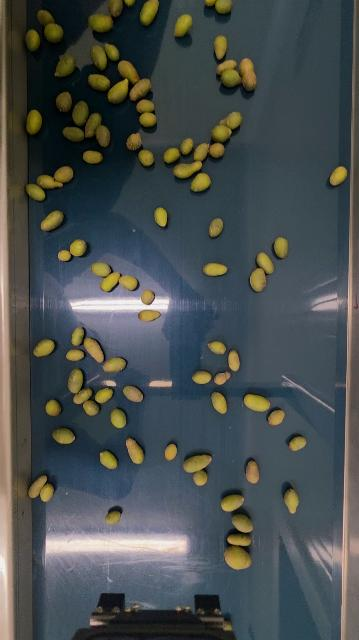Baby Potato: (225, 545, 254, 571), (239, 55, 259, 92), (183, 453, 214, 474), (138, 0, 162, 27), (83, 335, 105, 364), (128, 77, 153, 102), (107, 78, 131, 104), (244, 392, 272, 414), (117, 59, 140, 85), (54, 52, 76, 78), (88, 12, 115, 33), (89, 43, 109, 71), (173, 161, 204, 179), (40, 209, 64, 232), (28, 473, 48, 500), (71, 100, 90, 128), (126, 437, 145, 465), (173, 13, 194, 38), (25, 107, 43, 136), (220, 493, 246, 513), (84, 112, 103, 139), (87, 72, 112, 92), (36, 173, 65, 190), (190, 171, 212, 193), (211, 123, 234, 144), (232, 513, 255, 534), (33, 338, 57, 358), (219, 68, 243, 88), (25, 182, 47, 203), (256, 251, 275, 275), (24, 28, 42, 53), (67, 368, 85, 393), (250, 267, 268, 292), (284, 488, 301, 514), (43, 22, 64, 43), (52, 426, 75, 445), (213, 34, 229, 61), (227, 531, 254, 547), (245, 459, 262, 484), (102, 356, 127, 373), (55, 91, 74, 113), (100, 272, 120, 292), (54, 165, 75, 184), (330, 165, 348, 187), (212, 391, 229, 414), (62, 125, 85, 142), (95, 124, 112, 147), (274, 235, 290, 259), (99, 450, 118, 470), (123, 384, 144, 402), (203, 262, 228, 277), (95, 385, 115, 403), (110, 408, 127, 429), (209, 216, 225, 238), (216, 58, 238, 74), (225, 110, 243, 129), (162, 146, 181, 164), (289, 434, 308, 452), (119, 273, 138, 291), (73, 387, 93, 404), (91, 261, 111, 278), (138, 308, 162, 322), (154, 206, 169, 228), (268, 408, 286, 426), (126, 132, 143, 151), (138, 148, 155, 167), (71, 325, 85, 348), (228, 349, 242, 372), (135, 98, 156, 113), (45, 399, 62, 417), (139, 111, 158, 127), (36, 9, 55, 25), (70, 238, 86, 257), (193, 370, 213, 385), (39, 483, 54, 503), (107, 0, 124, 17), (209, 141, 226, 158), (215, 0, 234, 15), (208, 340, 227, 355), (104, 42, 119, 61), (65, 348, 85, 362), (83, 150, 103, 164), (83, 400, 100, 416), (180, 136, 194, 155), (193, 470, 209, 486), (214, 370, 231, 385), (165, 442, 178, 461), (105, 510, 121, 525), (142, 289, 155, 305), (58, 250, 71, 262), (223, 619, 234, 632), (123, 0, 137, 7), (203, 0, 219, 6)
